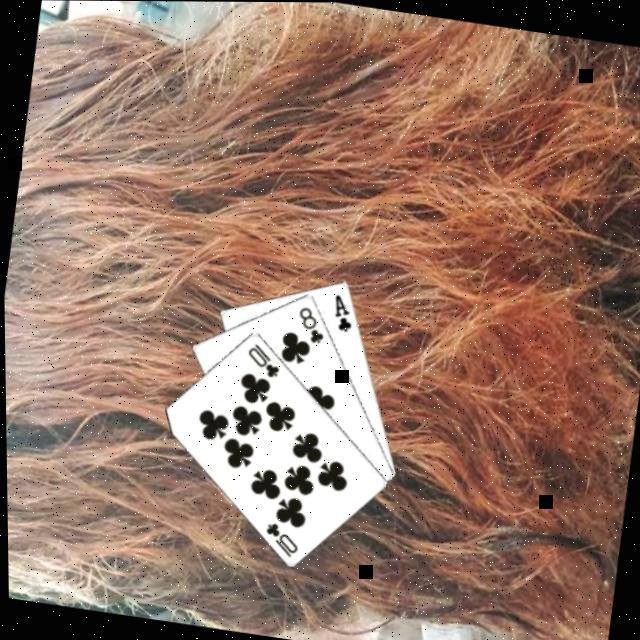10C: (256, 515, 302, 558), (239, 336, 283, 379)
8C: (290, 300, 329, 344)
AC: (326, 288, 357, 332)
